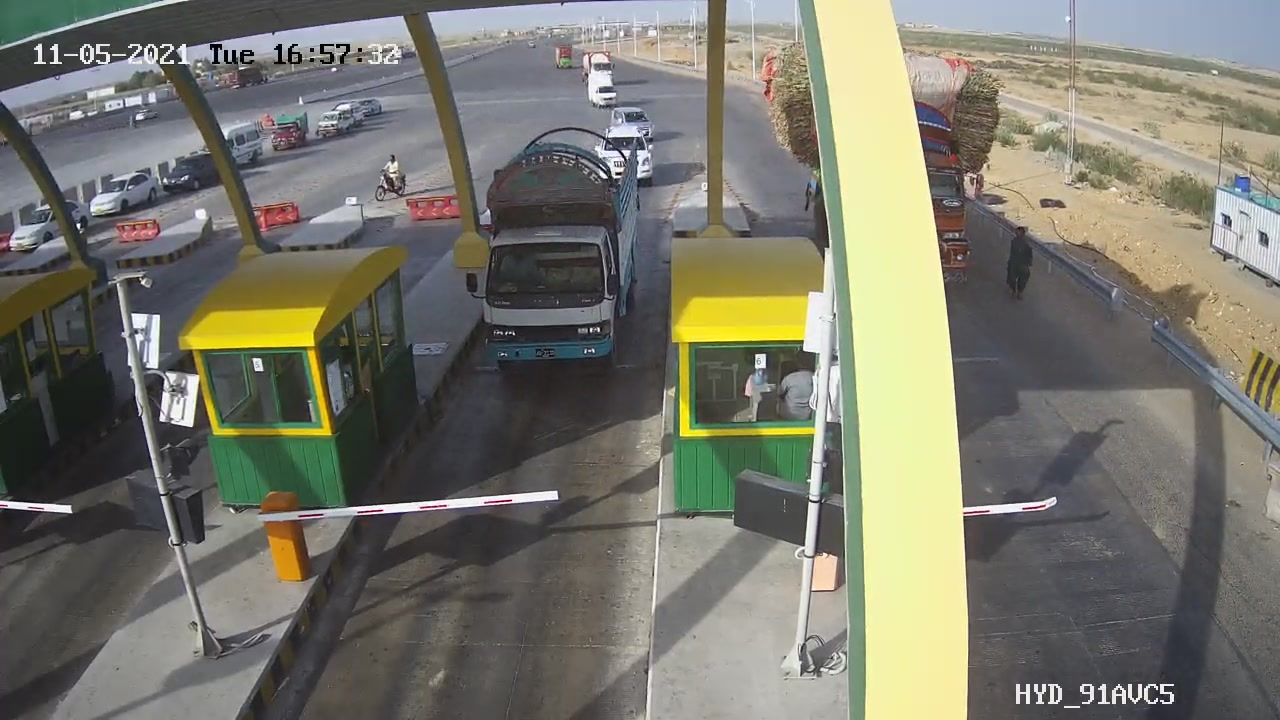F5: (450, 114, 667, 392)
